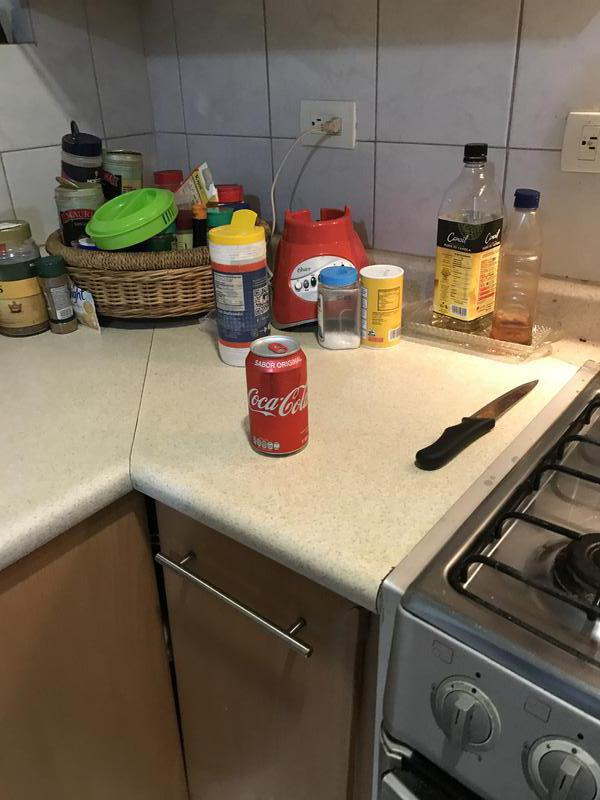coca_cola: (249, 334, 311, 457)
